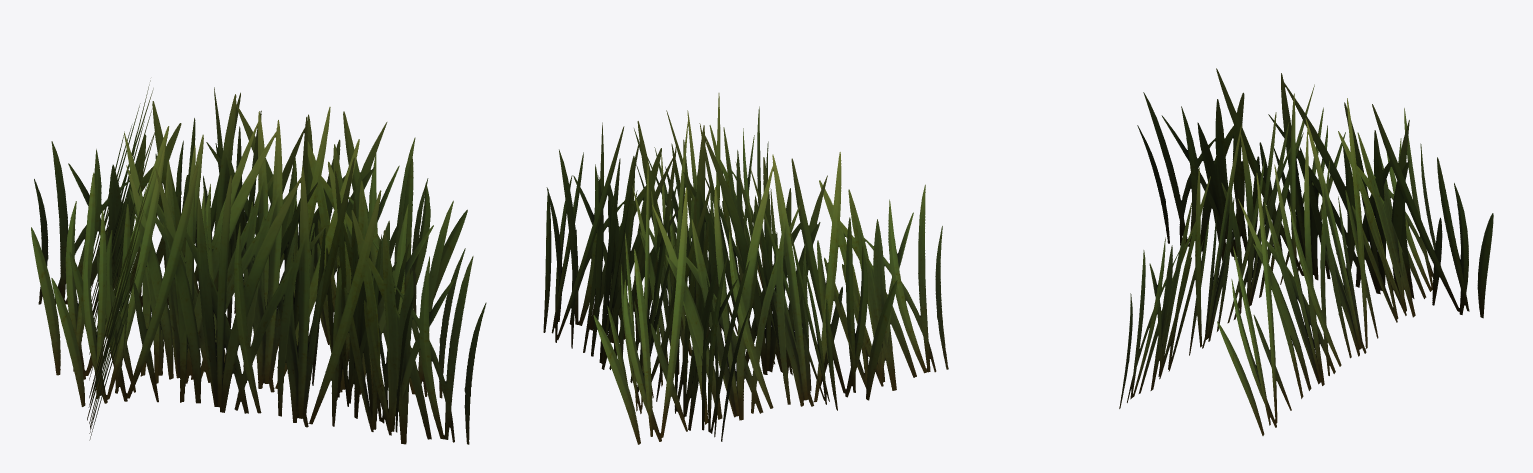
File: GrassTall.glb
3 renders of one model, left to right at view 1: azimuth 30°, elevation 25°; view 2: azimuth 150°, elevation 25°; view 3: azimuth 270°, elevation 25°, orthographic. The views are drawn at different scales.
Parts seen in each view (by area): view 1: Grass_Tall; view 2: Grass_Tall; view 3: Grass_Tall.
Boxes of the visible parts, <box> form: Grass_Tall: <box>31,80,486,444</box>; Grass_Tall: <box>543,93,948,444</box>; Grass_Tall: <box>1119,68,1493,435</box>.
Bounding box in the file's own units: 1.1 × 0.6905 × 1.25.
Materials: 1 (1 with a texture image).
